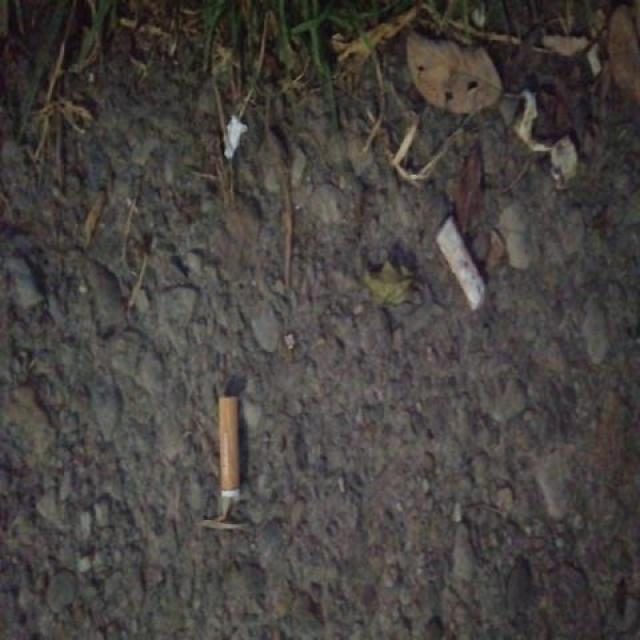non-organic waste: (430, 210, 494, 318), (213, 390, 246, 518)
